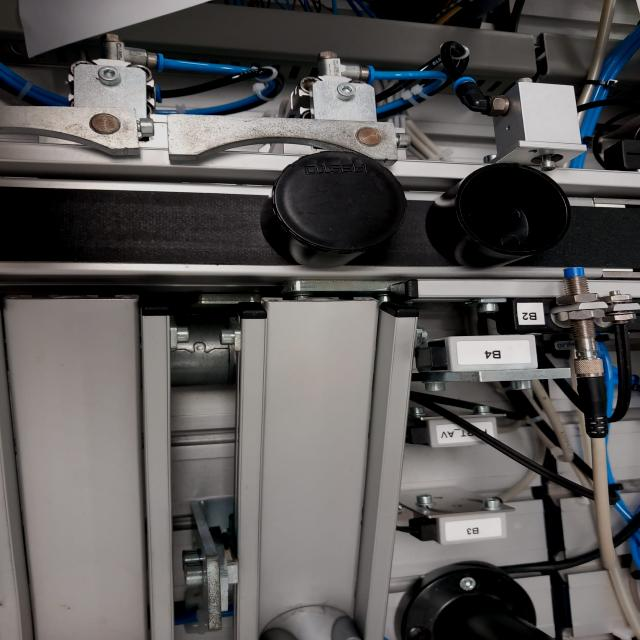NoLid: (433, 157, 581, 271)
Workpiece: (260, 140, 415, 266)
